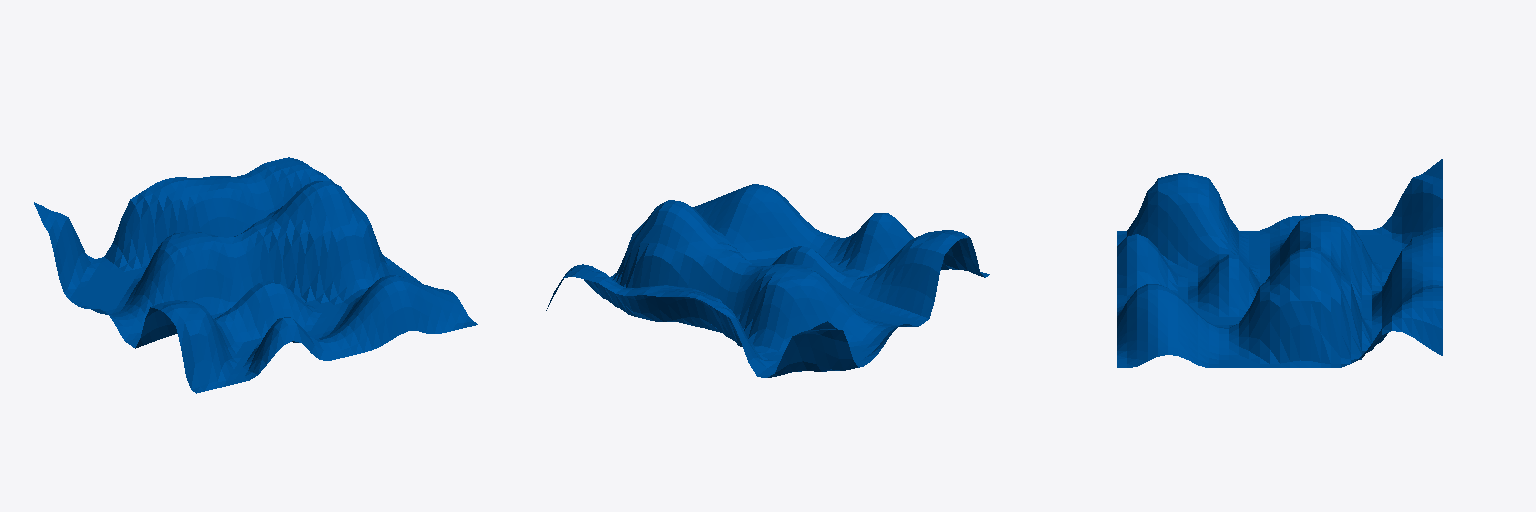
The model's file is terrain.obj.
3 views of the same model, side by side, from view 1: azimuth 30°, elevation 25°; view 2: azimuth 150°, elevation 25°; view 3: azimuth 270°, elevation 25° (orthographic).
Visible parts, largest first — view 1: Plane; view 2: Plane; view 3: Plane.
Part boxes in pixels (x1,y1,x2,y2): Plane: (34,157,477,393); Plane: (546,184,989,377); Plane: (1117,159,1442,367).
Bounding box in the file's own units: 32.39 × 9.55 × 32.39.